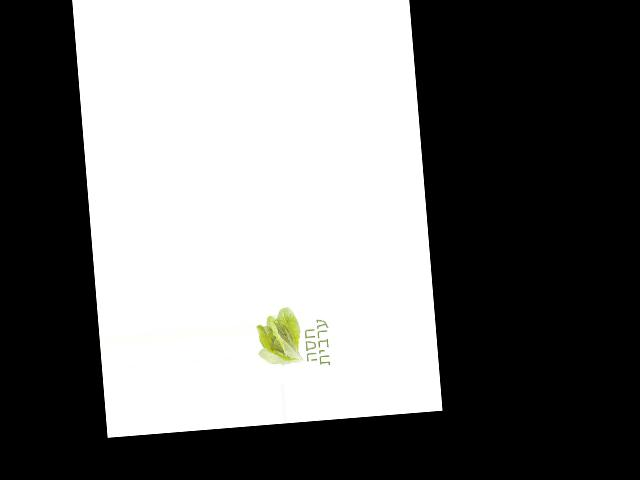lettuce: (254, 305, 308, 370)
